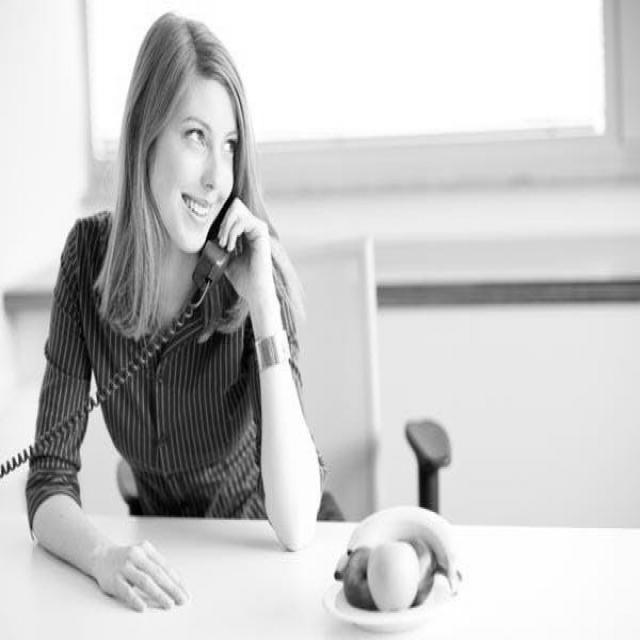phone: (192, 118, 283, 332)
